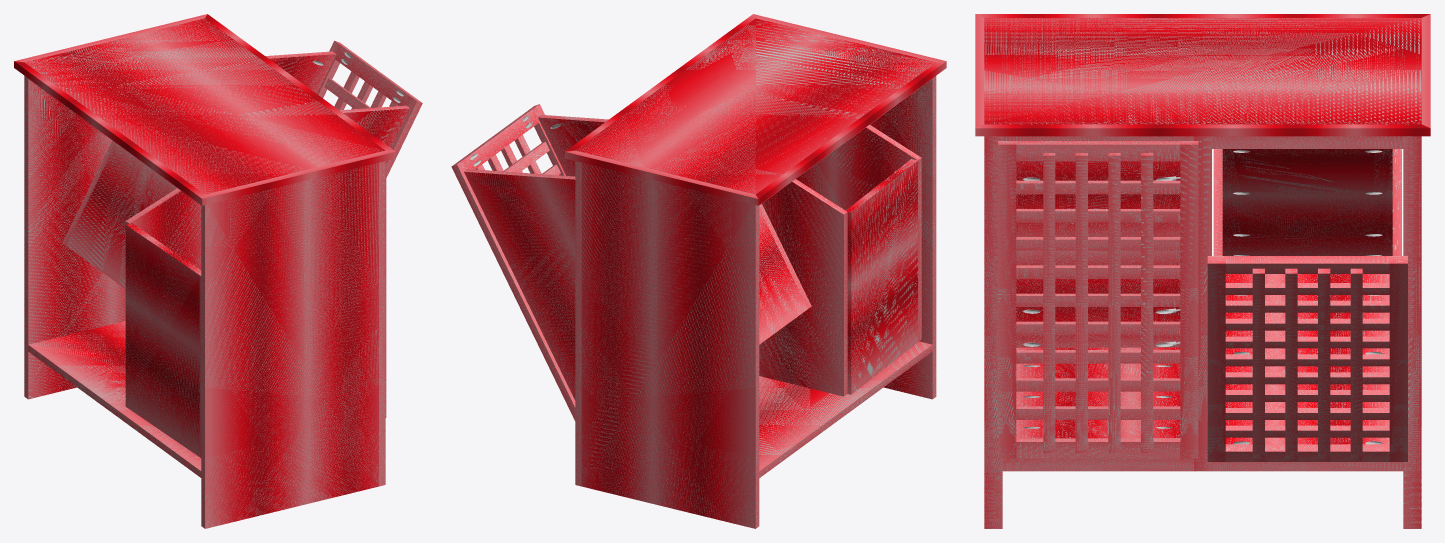
3 views of the same model, side by side, from view 1: azimuth 30°, elevation 25°; view 2: azimuth 150°, elevation 25°; view 3: azimuth 270°, elevation 25° (orthographic). The views are drawn at different scales.
Parts seen in each view (by area): view 1: mesh18.001_mesh18-geometry, mesh24.001_mesh24-geometry, mesh17.001_mesh17-geometry, mesh14.001_mesh14-geometry, mesh19.002_mesh19-geometry, mesh3.001_mesh3-geometry, mesh12.002_mesh12-geometry, mesh29.001_mesh29-geometry, mesh21.001_mesh21-geometry, mesh27.001_mesh27-geometry, mesh12.001_mesh12-geometry, mesh7.001_mesh7-geometry (+7 smaller); view 2: mesh17.001_mesh17-geometry, mesh24.001_mesh24-geometry, mesh14.001_mesh14-geometry, mesh12.002_mesh12-geometry, mesh12.001_mesh12-geometry, mesh18.001_mesh18-geometry, mesh19.002_mesh19-geometry, mesh7.002_mesh7-geometry, mesh3.001_mesh3-geometry, mesh8.001_mesh8-geometry, mesh29.001_mesh29-geometry, mesh7.001_mesh7-geometry (+5 smaller); view 3: mesh24.001_mesh24-geometry, mesh3.001_mesh3-geometry, mesh14.001_mesh14-geometry, mesh2.001_mesh2-geometry, mesh20.001_mesh20-geometry, mesh13.001_mesh13-geometry, mesh8.002_mesh8-geometry, mesh10.002_mesh10-geometry, mesh31.001_mesh31-geometry, mesh21.001_mesh21-geometry, mesh22.001_mesh22-geometry, mesh10.001_mesh10-geometry (+40 smaller).
Part boxes in pixels (x1,y1,x2,y2): mesh18.001_mesh18-geometry: (201,163,378,528); mesh24.001_mesh24-geometry: (25,18,384,194); mesh17.001_mesh17-geometry: (24,76,125,399); mesh14.001_mesh14-geometry: (125,223,201,456); mesh19.002_mesh19-geometry: (28,321,201,477); mesh3.001_mesh3-geometry: (66,143,176,288); mesh12.002_mesh12-geometry: (125,188,201,269); mesh29.001_mesh29-geometry: (14,61,204,205); mesh21.001_mesh21-geometry: (379,161,385,486); mesh27.001_mesh27-geometry: (202,150,395,205); mesh12.001_mesh12-geometry: (62,51,335,245); mesh7.001_mesh7-geometry: (339,105,409,147); mesh17.001_mesh17-geometry: (581,163,759,528); mesh24.001_mesh24-geometry: (575,18,935,194); mesh14.001_mesh14-geometry: (846,159,917,394); mesh12.002_mesh12-geometry: (759,179,847,396); mesh12.001_mesh12-geometry: (464,169,575,400); mesh18.001_mesh18-geometry: (870,76,936,399); mesh19.002_mesh19-geometry: (759,341,932,477); mesh7.002_mesh7-geometry: (796,125,921,341); mesh3.001_mesh3-geometry: (759,209,807,344); mesh8.001_mesh8-geometry: (451,159,575,420); mesh29.001_mesh29-geometry: (756,61,946,205); mesh7.001_mesh7-geometry: (538,115,811,308); mesh24.001_mesh24-geometry: (984,18,1421,124); mesh3.001_mesh3-geometry: (1222,149,1392,255); mesh14.001_mesh14-geometry: (1016,161,1180,347); mesh2.001_mesh2-geometry: (1225,274,1389,444); mesh20.001_mesh20-geometry: (1403,136,1421,528); mesh13.001_mesh13-geometry: (1016,347,1180,438); mesh8.002_mesh8-geometry: (1180,141,1198,458); mesh10.002_mesh10-geometry: (998,141,1016,458); mesh31.001_mesh31-geometry: (975,124,1430,136); mesh21.001_mesh21-geometry: (984,136,1002,528); mesh22.001_mesh22-geometry: (1194,136,1211,471); mesh10.001_mesh10-geometry: (1207,256,1225,461).
Size of the model in its own units: 0.5703 by 0.5749 by 0.5867.
